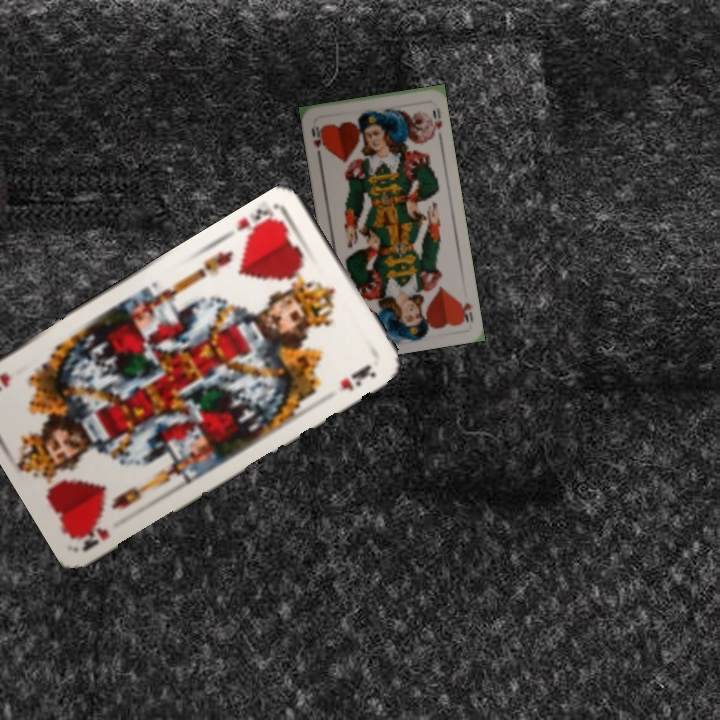HK: (233, 199, 287, 246), (73, 517, 112, 554)
HO: (307, 122, 328, 160), (455, 296, 476, 326)
